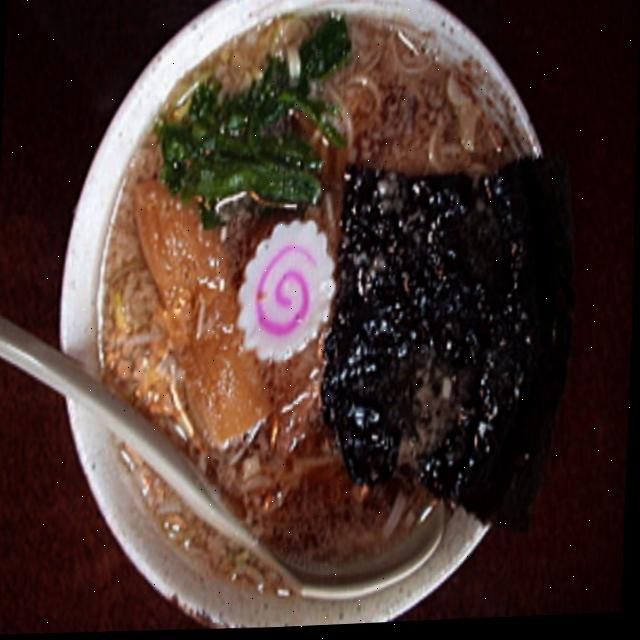面条主食: (36, 0, 578, 638)
